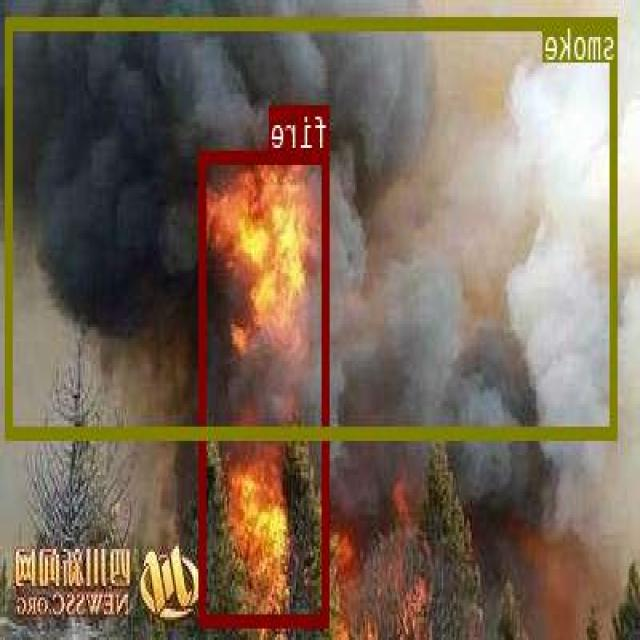fire: (201, 148, 330, 625)
smoke: (6, 14, 619, 437)
